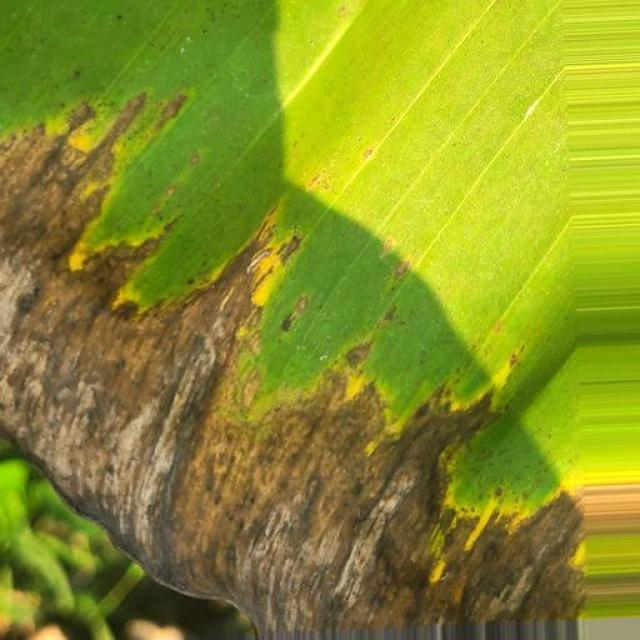Early_rust: (0, 73, 613, 640)
